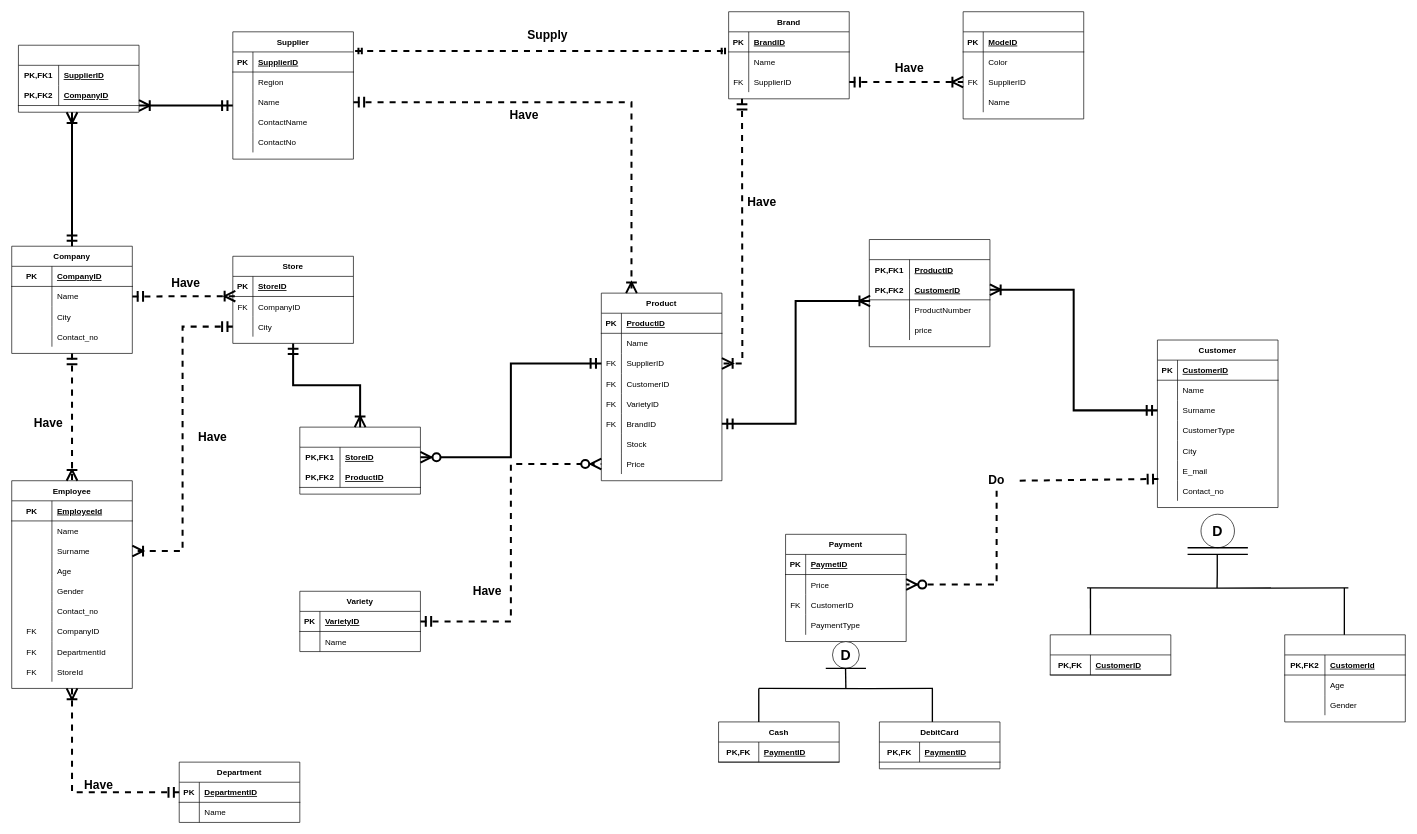
Some shapes in this 1417 by 834 pixel diagram are drawn without their labels. Here are the shapes that lost their labels. From the top down, the box of each, then its label:
(18, 45, 139, 112): Company Supplier
(962, 11, 1084, 119): Model
(869, 239, 990, 347): Costumer Product
(299, 426, 420, 494): Store Product
(1050, 634, 1171, 675): Institutional
(1284, 634, 1405, 722): Individual
